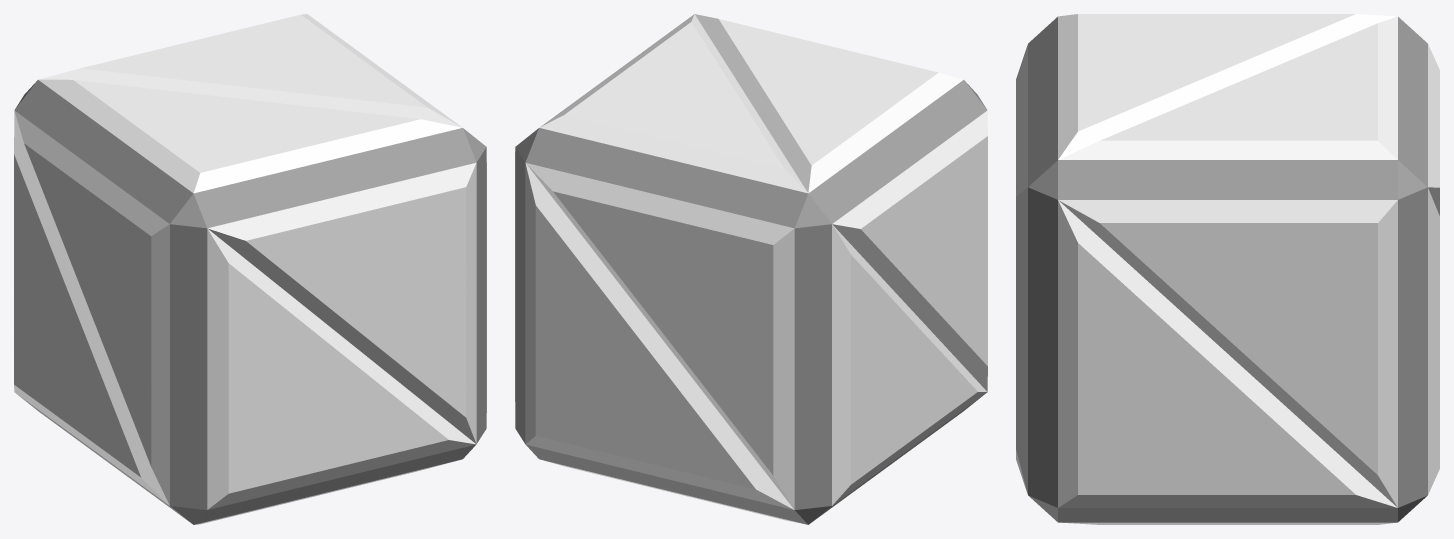
File: SM_Crate_01.fbx
3 renders of one model, left to right at view 1: azimuth 30°, elevation 25°; view 2: azimuth 150°, elevation 25°; view 3: azimuth 270°, elevation 25°, orthographic. The views are drawn at different scales.
Visible parts, largest first — view 1: SM_Crate_01; view 2: SM_Crate_01; view 3: SM_Crate_01.
Part boxes in pixels (<box>): SM_Crate_01: <box>14,14,486,524</box>; SM_Crate_01: <box>515,14,987,524</box>; SM_Crate_01: <box>1016,14,1439,524</box>.
Bounding box in the file's own units: 84.8 × 84.8 × 84.8.
Materials: 1 (1 with a texture image).
